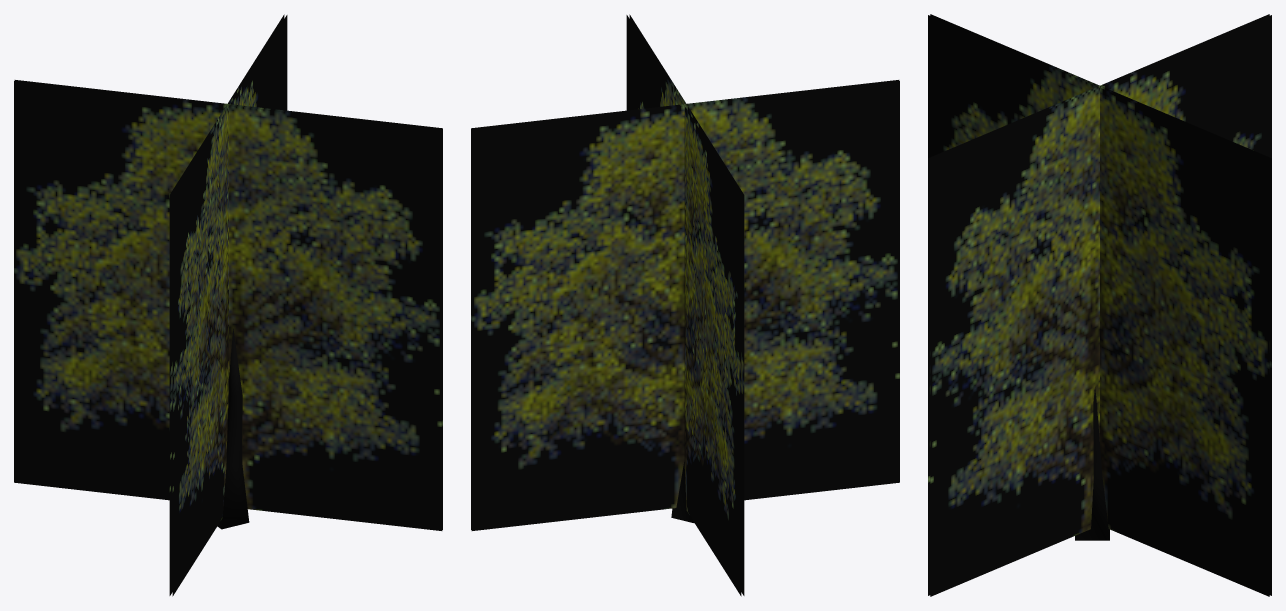
Rendered from tree094.fbx.
3 renders of one model, left to right at view 1: azimuth 30°, elevation 25°; view 2: azimuth 150°, elevation 25°; view 3: azimuth 270°, elevation 25°, orthographic. The views are drawn at different scales.
Visible parts, largest first — view 1: tree094, tree094_trunk; view 2: tree094; view 3: tree094, tree094_trunk.
Boxes of the visible parts, x1,y1,x2,y2 form: tree094: [14, 14, 442, 596]; tree094_trunk: [217, 328, 249, 529]; tree094: [471, 14, 899, 596]; tree094: [928, 14, 1271, 596]; tree094_trunk: [1075, 387, 1109, 540].
Size of the model in its own units: 278 by 400 by 278.
Materials: 1 (1 with a texture image).
